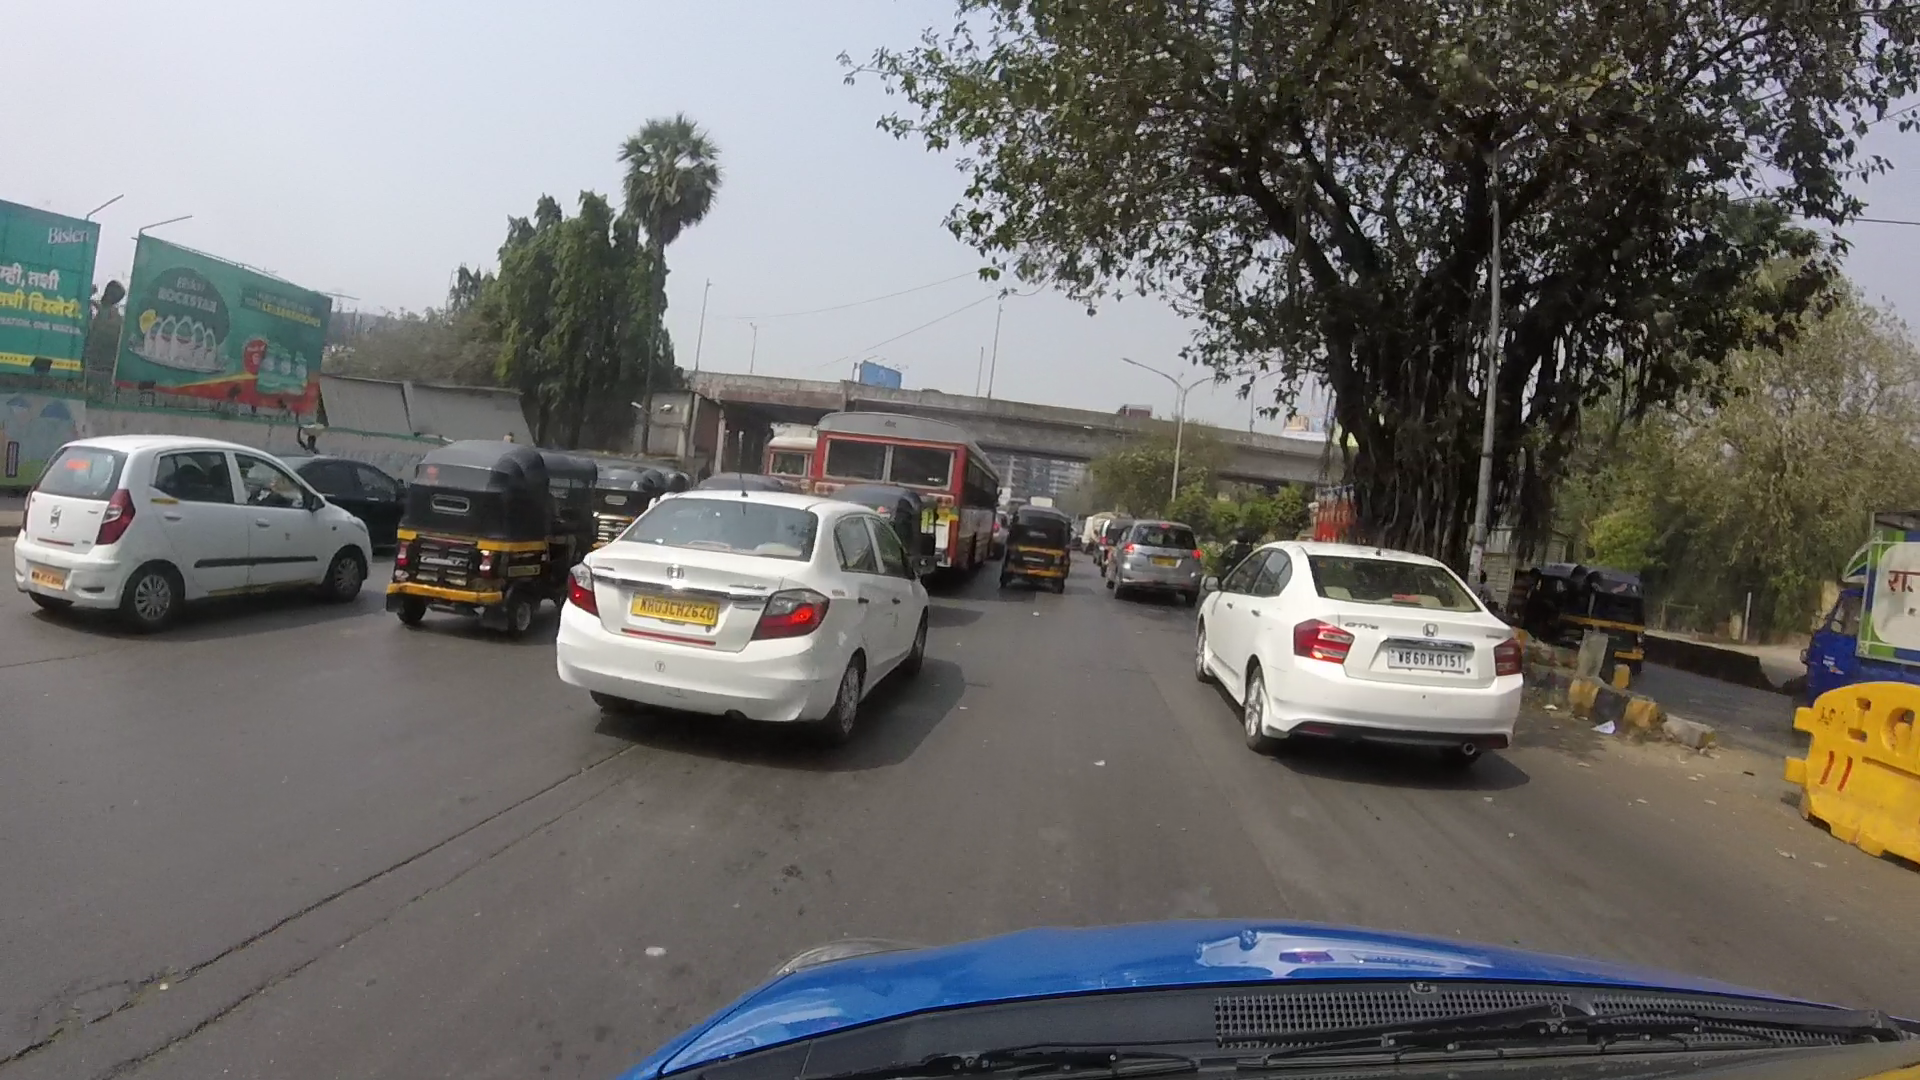bus: (816, 407, 975, 574)
car: (568, 487, 919, 754), (22, 427, 369, 613), (1199, 551, 1511, 752), (1102, 516, 1203, 595)
rickshaw: (411, 430, 546, 630), (984, 506, 1081, 592)
